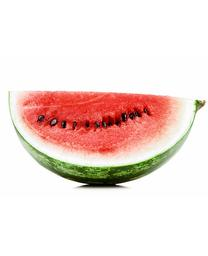watermelon: (7, 87, 204, 187)
